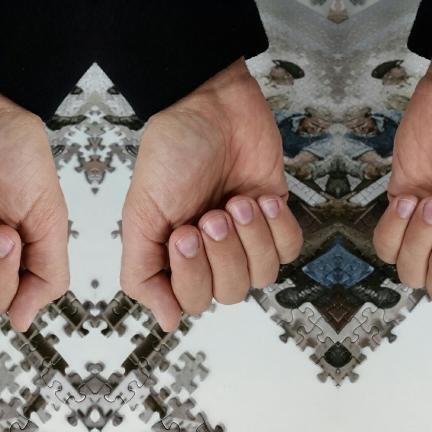Nail: (201, 215, 227, 241), (175, 232, 198, 258), (228, 200, 252, 224), (258, 199, 278, 217), (396, 199, 416, 217), (0, 232, 13, 258), (422, 200, 432, 224), (150, 310, 163, 328), (25, 310, 38, 328)
